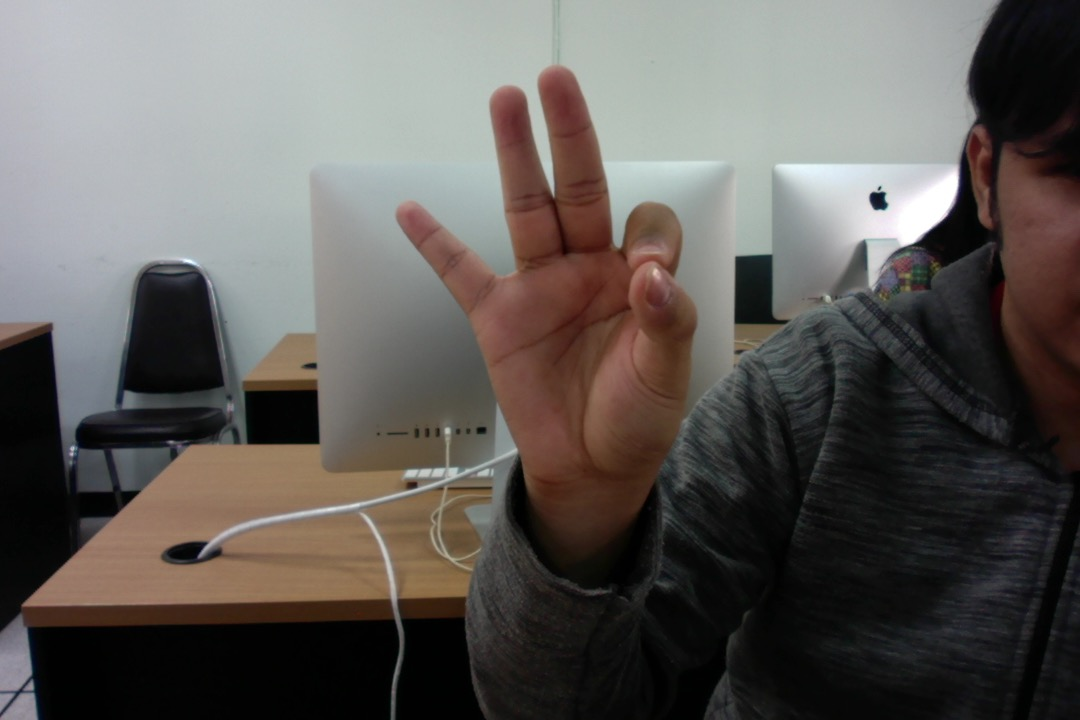for: (356, 42, 775, 585)
